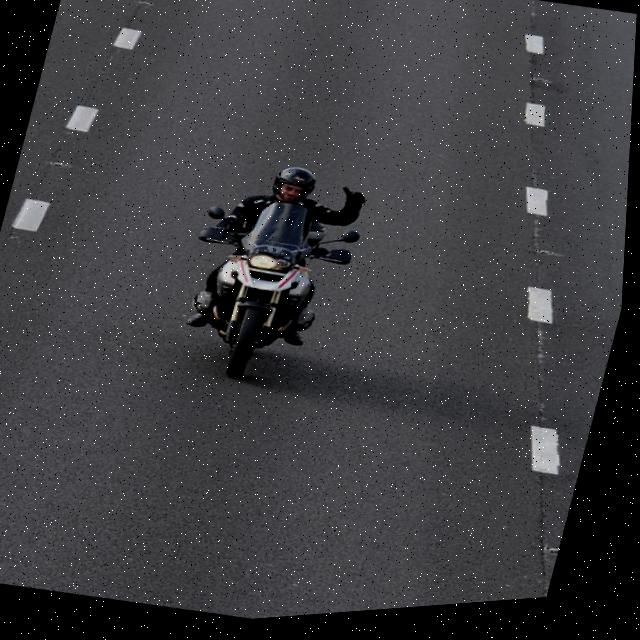motorcycle: (159, 178, 370, 403)
